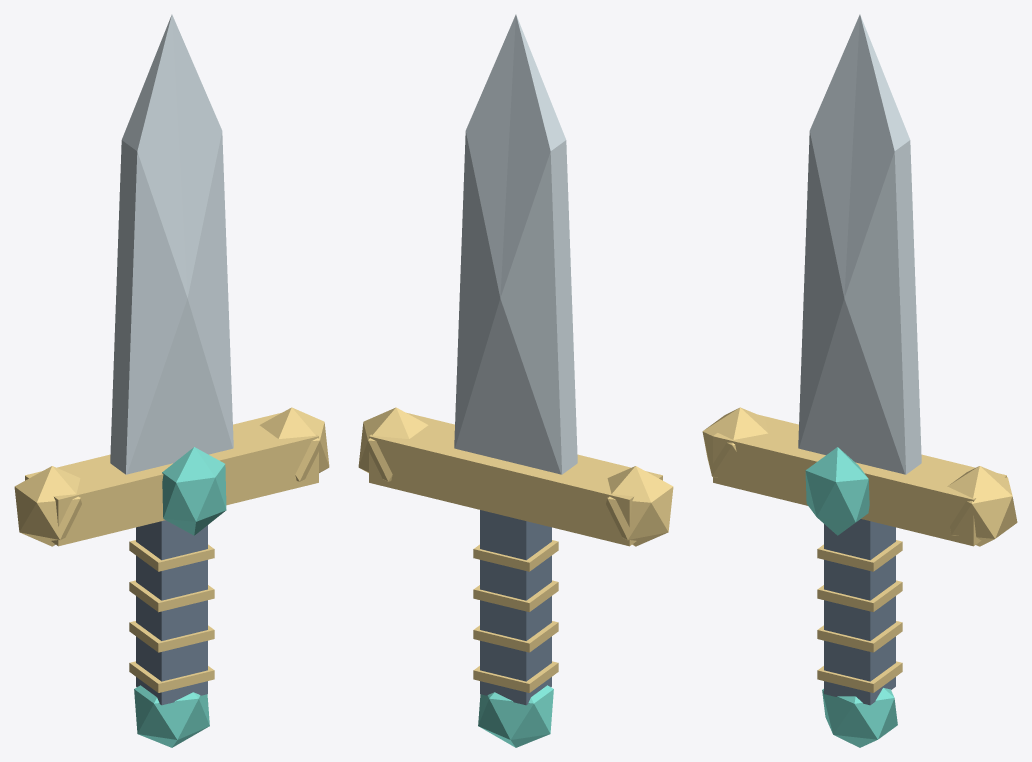
3 renders of one model, left to right at view 1: azimuth 30°, elevation 25°; view 2: azimuth 150°, elevation 25°; view 3: azimuth 330°, elevation 25°, orthographic.
Visible parts, largest first — view 1: Lâmina, Guarda, Cabo, Joia, Ponta da guarda, Pomo, Ponta da guarda.001, Faixa do cabo, Faixa do cabo.001, Faixa do cabo.002, Faixa do cabo.003; view 2: Lâmina, Guarda, Cabo, Ponta da guarda, Pomo, Ponta da guarda.001, Faixa do cabo, Faixa do cabo.001, Faixa do cabo.002, Faixa do cabo.003; view 3: Lâmina, Guarda, Cabo, Joia, Ponta da guarda.001, Pomo, Ponta da guarda, Faixa do cabo, Faixa do cabo.001, Faixa do cabo.002, Faixa do cabo.003.
Boxes of the visible parts, x1=… form: Lâmina: x1=110, y1=14, x2=233, y2=474; Guarda: x1=25, y1=412, x2=318, y2=546; Cabo: x1=136, y1=520, x2=207, y2=705; Joia: x1=162, y1=447, x2=226, y2=535; Ponta da guarda: x1=14, y1=466, x2=81, y2=546; Pomo: x1=134, y1=685, x2=209, y2=747; Ponta da guarda.001: x1=259, y1=407, x2=329, y2=481; Faixa do cabo: x1=129, y1=661, x2=214, y2=692; Faixa do cabo.001: x1=129, y1=621, x2=214, y2=652; Faixa do cabo.002: x1=129, y1=580, x2=214, y2=612; Faixa do cabo.003: x1=129, y1=540, x2=214, y2=571; Lâmina: x1=454, y1=14, x2=577, y2=474; Guarda: x1=369, y1=412, x2=662, y2=546; Cabo: x1=480, y1=510, x2=551, y2=705; Ponta da guarda: x1=606, y1=466, x2=673, y2=546; Pomo: x1=478, y1=685, x2=553, y2=747; Ponta da guarda.001: x1=358, y1=407, x2=428, y2=481; Faixa do cabo: x1=473, y1=661, x2=558, y2=692; Faixa do cabo.001: x1=473, y1=621, x2=558, y2=652; Faixa do cabo.002: x1=473, y1=580, x2=558, y2=612; Faixa do cabo.003: x1=473, y1=540, x2=558, y2=571; Lâmina: x1=798, y1=14, x2=921, y2=474; Guarda: x1=713, y1=414, x2=1006, y2=546; Cabo: x1=824, y1=519, x2=895, y2=705; Joia: x1=805, y1=447, x2=869, y2=535; Ponta da guarda.001: x1=947, y1=466, x2=1017, y2=546; Pomo: x1=822, y1=688, x2=897, y2=747; Ponta da guarda: x1=702, y1=407, x2=768, y2=477; Faixa do cabo: x1=817, y1=661, x2=902, y2=692; Faixa do cabo.001: x1=817, y1=621, x2=902, y2=652; Faixa do cabo.002: x1=817, y1=580, x2=902, y2=612; Faixa do cabo.003: x1=817, y1=540, x2=902, y2=571.
Bounding box in the file's own units: 1.58 × 3.63 × 0.4637.
